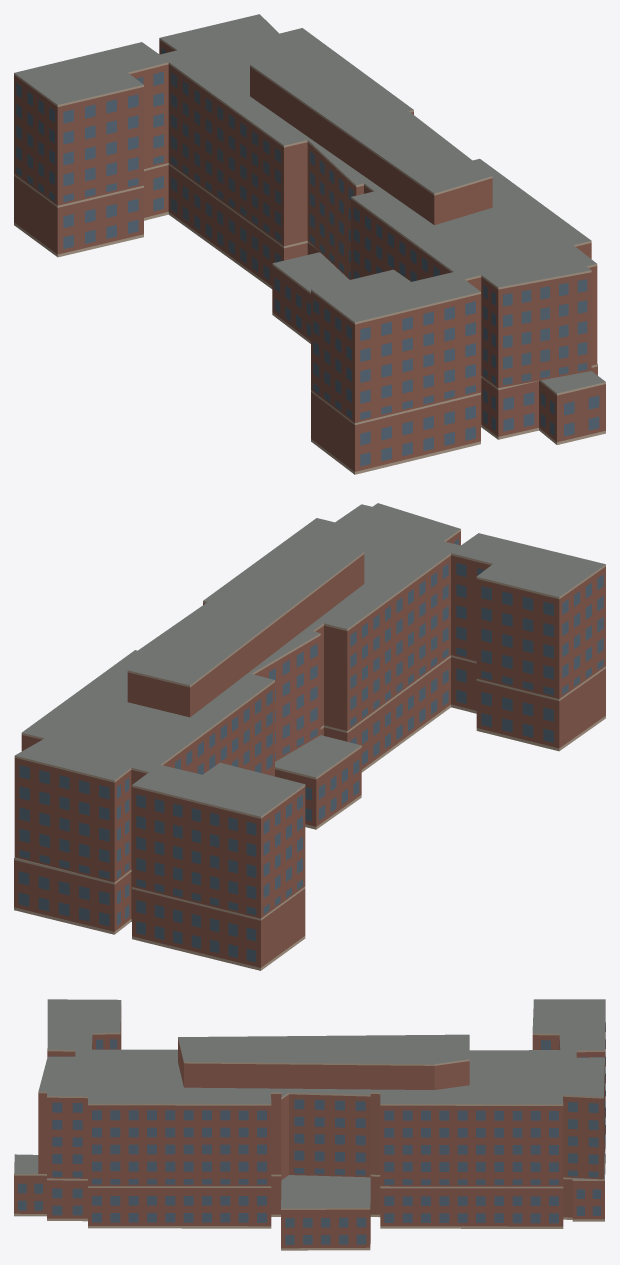
The model's file is dc-au-letts-hall.glb.
The picture shows the model from 3 angles, top to bottom: view 1: azimuth 30°, elevation 25°; view 2: azimuth 150°, elevation 25°; view 3: azimuth 270°, elevation 25°; orthographic projection. The views are drawn at different scales.
Parts seen in each view (by area): view 1: Letts Hall; view 2: Letts Hall; view 3: Letts Hall.
Part boxes in pixels (left/top/right/bottom): Letts Hall: left=14, top=14, right=605, bottom=474; Letts Hall: left=14, top=503, right=605, bottom=970; Letts Hall: left=14, top=999, right=605, bottom=1250.
Size of the model in its own units: 51.45 by 28.5 by 102.
